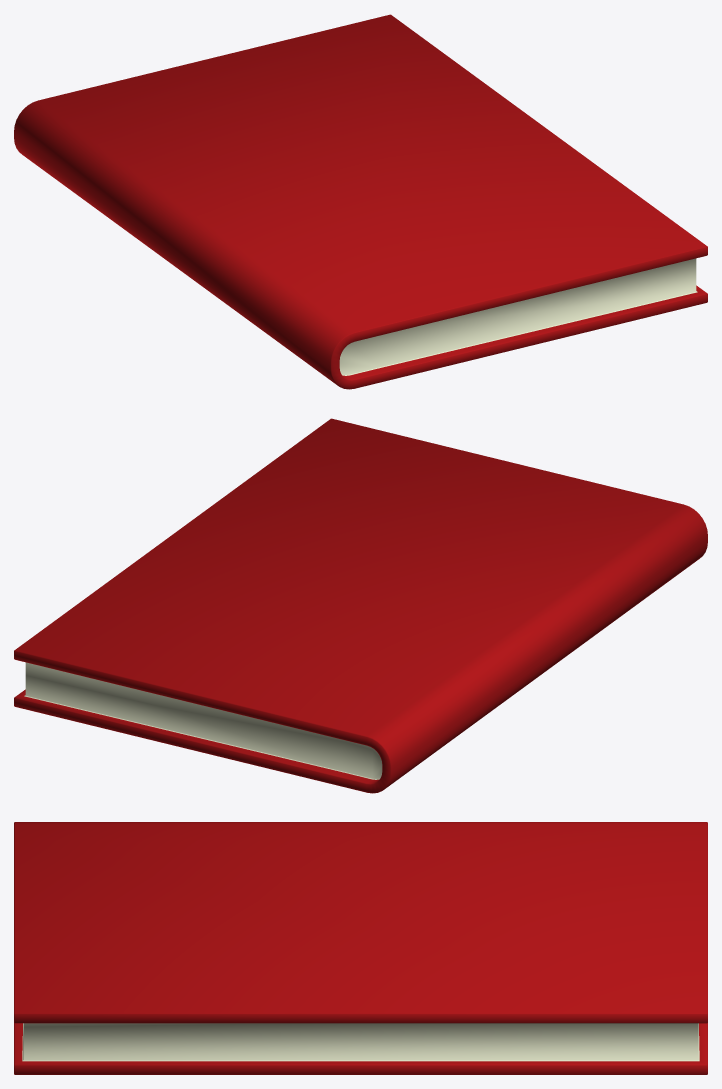
File: JournalClosed.fbx
3 views of the same model, one above another, from view 1: azimuth 30°, elevation 25°; view 2: azimuth 150°, elevation 25°; view 3: azimuth 270°, elevation 25° (orthographic). The views are drawn at different scales.
Parts seen in each view (by area): view 1: P; view 2: P; view 3: P.
Part boxes in pixels (x1,y1,x2,y2): P: (14, 14, 707, 389); P: (14, 418, 707, 793); P: (14, 822, 707, 1074).
Bounding box in the file's own units: 200 × 28.67 × 291.
